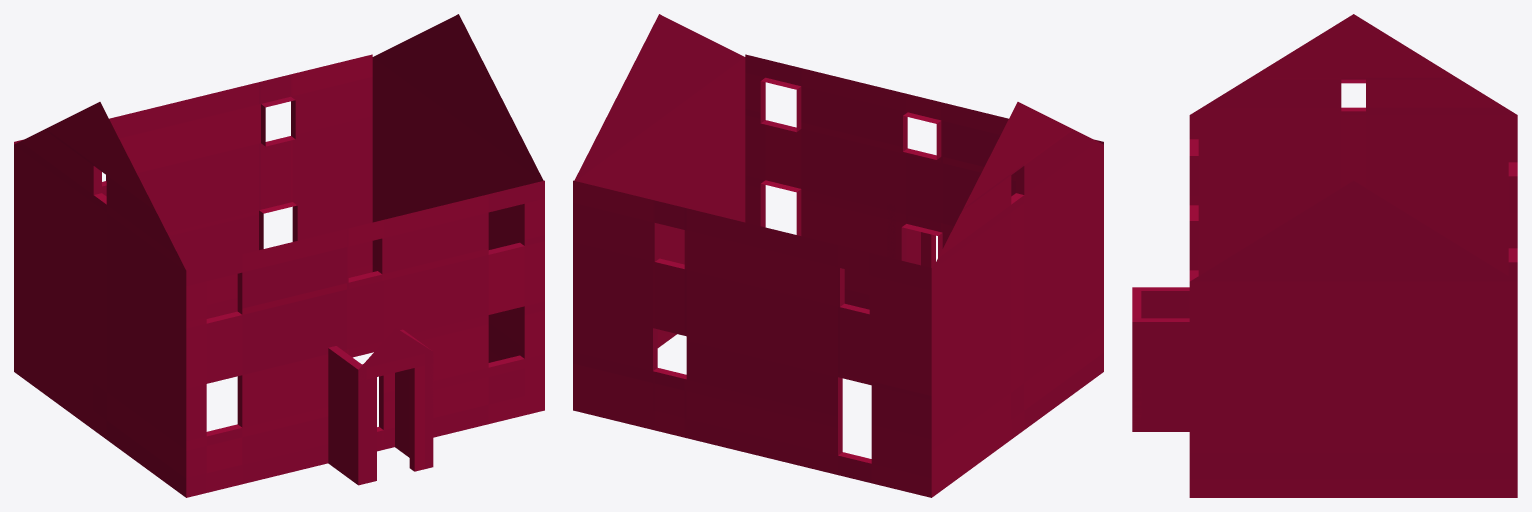
The model's file is SM_Bld_073_Masonry.glb.
The picture shows the model from 3 angles, left to right: view 1: azimuth 30°, elevation 25°; view 2: azimuth 150°, elevation 25°; view 3: azimuth 270°, elevation 25°; orthographic projection. The views are drawn at different scales.
Parts seen in each view (by area): view 1: SM_Bld_073_Masonry; view 2: SM_Bld_073_Masonry; view 3: SM_Bld_073_Masonry.
Boxes of the visible parts, box(x1,y1,x2,y2) form: SM_Bld_073_Masonry: box(14, 14, 544, 497); SM_Bld_073_Masonry: box(573, 14, 1103, 497); SM_Bld_073_Masonry: box(1132, 14, 1517, 497).
Size of the model in its own units: 9.58 by 8.51 by 9.37.
